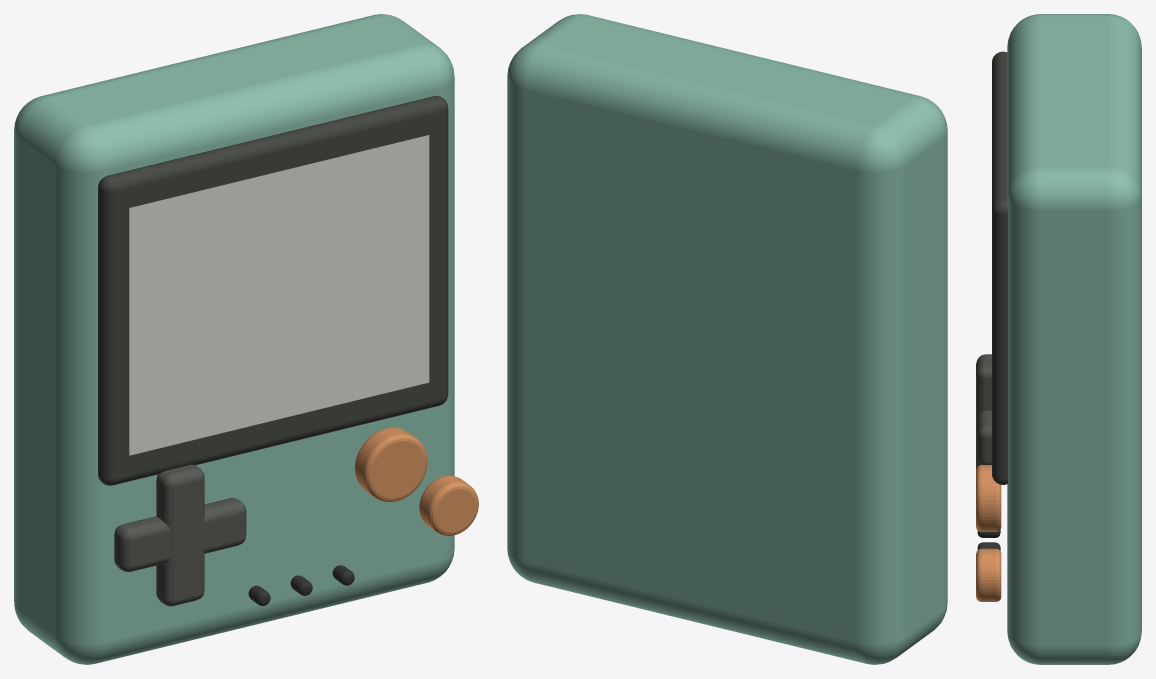
The model's file is ai-terminal.glb.
The picture shows the model from 3 angles, left to right: view 1: azimuth 30°, elevation 25°; view 2: azimuth 150°, elevation 25°; view 3: azimuth 270°, elevation 25°; orthographic projection. The views are drawn at different scales.
Parts seen in each view (by area): view 1: TerminalShell, TerminalScreen, TerminalBezel, TerminalDpadVertical, TerminalDpadHorizontal, TerminalButtonA, TerminalButtonB; view 2: TerminalShell; view 3: TerminalShell, TerminalBezel, TerminalButtonA, TerminalButtonB, TerminalDpadVertical, TerminalDpadHorizontal.
Part boxes in pixels (x1=…): TerminalShell: x1=14, y1=14, x2=454, y2=664; TerminalScreen: x1=129, y1=135, x2=429, y2=455; TerminalBezel: x1=98, y1=96, x2=448, y2=485; TerminalDpadVertical: x1=156, y1=464, x2=204, y2=606; TerminalDpadHorizontal: x1=114, y1=498, x2=246, y2=571; TerminalButtonA: x1=355, y1=427, x2=427, y2=501; TerminalButtonB: x1=419, y1=475, x2=478, y2=535; TerminalShell: x1=507, y1=14, x2=947, y2=664; TerminalShell: x1=1007, y1=14, x2=1141, y2=664; TerminalBezel: x1=992, y1=51, x2=1007, y2=484; TerminalButtonA: x1=976, y1=465, x2=1001, y2=531; TerminalButtonB: x1=976, y1=548, x2=1001, y2=601; TerminalDpadVertical: x1=976, y1=354, x2=991, y2=469; TerminalDpadHorizontal: x1=977, y1=410, x2=991, y2=464.
Bounding box in the file's own units: 1.5 × 1.95 × 0.591.
